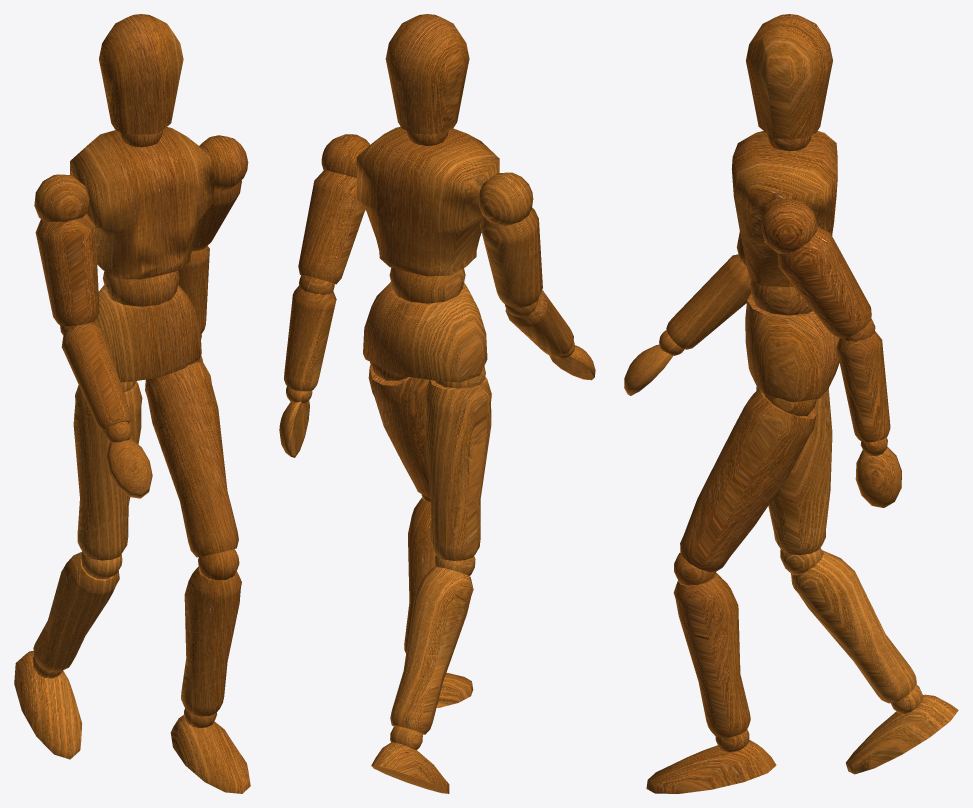
Rendered from dummy_obj_6.obj.
3 renders of one model, left to right at view 1: azimuth 30°, elevation 25°; view 2: azimuth 150°, elevation 25°; view 3: azimuth 270°, elevation 25°, orthographic. The views are drawn at different scales.
Visible parts, largest first — view 1: dummy_hips3_dummy_belly_dummy_torso, dummy_hips3_dummy_rpelvis_dummy_rupleg, dummy_hips3_dummy_belly_dummy_torso_dummy_neck_dummy_headq, dummy_hips3, dummy_hips3_dummy_lpelvis_dummy_lupleg, dummy_hips3_dummy_rpelvis_dummy_rupleg_dummy_rknee_dummy_rleg, dummy_hips3_dummy_belly_dummy_torso_dummy_lshoulder_dummy_larm, dummy_hips3_dummy_lpelvis_dummy_lupleg_dummy_lknee_dummy_lleg, dummy_hips3_dummy_lpelvis_dummy_lupleg_dummy_lknee_dummy_ll.000, dummy_hips3_dummy_belly_dummy_torso_dummy_lshoulder_dummy_l.000, dummy_hips3_dummy_rpelvis_dummy_rupleg_dummy_rknee_dummy_rleg_d, dummy_hips3_dummy_belly_dummy_torso_dummy_lshoulder (+9 smaller); view 2: dummy_hips3_dummy_belly_dummy_torso, dummy_hips3_dummy_lpelvis_dummy_lupleg, dummy_hips3, dummy_hips3_dummy_belly_dummy_torso_dummy_neck_dummy_headq, dummy_hips3_dummy_lpelvis_dummy_lupleg_dummy_lknee_dummy_lleg, dummy_hips3_dummy_belly_dummy_torso_dummy_rshoulder_dummy_rarm, dummy_hips3_dummy_belly_dummy_torso_dummy_lshoulder_dummy_larm, dummy_hips3_dummy_rpelvis_dummy_rupleg, dummy_hips3_dummy_belly_dummy_torso_dummy_rshoulder_dummy_r.001, dummy_hips3_dummy_belly_dummy_torso_dummy_lshoulder, dummy_hips3_dummy_lpelvis_dummy_lupleg_dummy_lknee_dummy_ll.000, dummy_hips3_dummy_belly_dummy_torso_dummy_lshoulder_dummy_l.000 (+7 smaller); view 3: dummy_hips3_dummy_rpelvis_dummy_rupleg, dummy_hips3_dummy_belly_dummy_torso, dummy_hips3_dummy_belly_dummy_torso_dummy_neck_dummy_headq, dummy_hips3_dummy_lpelvis_dummy_lupleg_dummy_lknee_dummy_lleg, dummy_hips3_dummy_rpelvis_dummy_rupleg_dummy_rknee_dummy_rleg, dummy_hips3, dummy_hips3_dummy_lpelvis_dummy_lupleg, dummy_hips3_dummy_belly_dummy_torso_dummy_rshoulder_dummy_rarm, dummy_hips3_dummy_belly_dummy_torso_dummy_rshoulder_dummy_r.001, dummy_hips3_dummy_rpelvis_dummy_rupleg_dummy_rknee_dummy_rleg_d, dummy_hips3_dummy_belly_dummy_torso_dummy_lshoulder_dummy_l.000, dummy_hips3_dummy_lpelvis_dummy_lupleg_dummy_lknee_dummy_ll.000 (+6 smaller).
Boxes of the visible parts, box(x1,y1,x2,y2) form: dummy_hips3_dummy_belly_dummy_torso: box(70, 127, 213, 279); dummy_hips3_dummy_rpelvis_dummy_rupleg: box(145, 361, 238, 557); dummy_hips3_dummy_belly_dummy_torso_dummy_neck_dummy_headq: box(99, 14, 183, 134); dummy_hips3: box(95, 285, 201, 382); dummy_hips3_dummy_lpelvis_dummy_lupleg: box(73, 381, 142, 560); dummy_hips3_dummy_rpelvis_dummy_rupleg_dummy_rknee_dummy_rleg: box(181, 566, 241, 716); dummy_hips3_dummy_belly_dummy_torso_dummy_lshoulder_dummy_larm: box(35, 213, 99, 326); dummy_hips3_dummy_lpelvis_dummy_lupleg_dummy_lknee_dummy_lleg: box(33, 552, 119, 672); dummy_hips3_dummy_lpelvis_dummy_lupleg_dummy_lknee_dummy_ll.000: box(14, 651, 82, 759); dummy_hips3_dummy_belly_dummy_torso_dummy_lshoulder_dummy_l.000: box(61, 322, 130, 432); dummy_hips3_dummy_rpelvis_dummy_rupleg_dummy_rknee_dummy_rleg_d: box(170, 714, 250, 793); dummy_hips3_dummy_belly_dummy_torso_dummy_lshoulder: box(34, 174, 89, 221); dummy_hips3_dummy_belly_dummy_torso: box(357, 126, 499, 276); dummy_hips3_dummy_lpelvis_dummy_lupleg: box(424, 376, 491, 560); dummy_hips3: box(363, 282, 487, 382); dummy_hips3_dummy_belly_dummy_torso_dummy_neck_dummy_headq: box(385, 14, 469, 134); dummy_hips3_dummy_lpelvis_dummy_lupleg_dummy_lknee_dummy_lleg: box(390, 566, 473, 734); dummy_hips3_dummy_belly_dummy_torso_dummy_rshoulder_dummy_rarm: box(298, 170, 364, 284); dummy_hips3_dummy_belly_dummy_torso_dummy_lshoulder_dummy_larm: box(480, 207, 542, 307); dummy_hips3_dummy_rpelvis_dummy_rupleg: box(368, 364, 430, 498); dummy_hips3_dummy_belly_dummy_torso_dummy_rshoulder_dummy_r.001: box(284, 285, 336, 391); dummy_hips3_dummy_belly_dummy_torso_dummy_lshoulder: box(478, 172, 533, 225); dummy_hips3_dummy_lpelvis_dummy_lupleg_dummy_lknee_dummy_ll.000: box(371, 742, 449, 793); dummy_hips3_dummy_belly_dummy_torso_dummy_lshoulder_dummy_l.000: box(505, 290, 573, 356); dummy_hips3_dummy_rpelvis_dummy_rupleg: box(680, 389, 816, 571); dummy_hips3_dummy_belly_dummy_torso: box(731, 131, 837, 287); dummy_hips3_dummy_belly_dummy_torso_dummy_neck_dummy_headq: box(746, 14, 832, 139); dummy_hips3_dummy_lpelvis_dummy_lupleg_dummy_lknee_dummy_lleg: box(791, 550, 916, 703); dummy_hips3_dummy_rpelvis_dummy_rupleg_dummy_rknee_dummy_rleg: box(673, 572, 750, 737); dummy_hips3: box(745, 293, 839, 402); dummy_hips3_dummy_lpelvis_dummy_lupleg: box(756, 386, 832, 555); dummy_hips3_dummy_belly_dummy_torso_dummy_rshoulder_dummy_rarm: box(777, 227, 871, 338); dummy_hips3_dummy_belly_dummy_torso_dummy_rshoulder_dummy_r.001: box(836, 331, 890, 442); dummy_hips3_dummy_rpelvis_dummy_rupleg_dummy_rknee_dummy_rleg_d: box(646, 740, 776, 793); dummy_hips3_dummy_belly_dummy_torso_dummy_lshoulder_dummy_l.000: box(666, 254, 751, 349); dummy_hips3_dummy_lpelvis_dummy_lupleg_dummy_lknee_dummy_ll.000: box(846, 694, 958, 774).
Bounding box in the file's own units: 52.56 × 180 × 70.44.
Materials: 1 (1 with a texture image).
